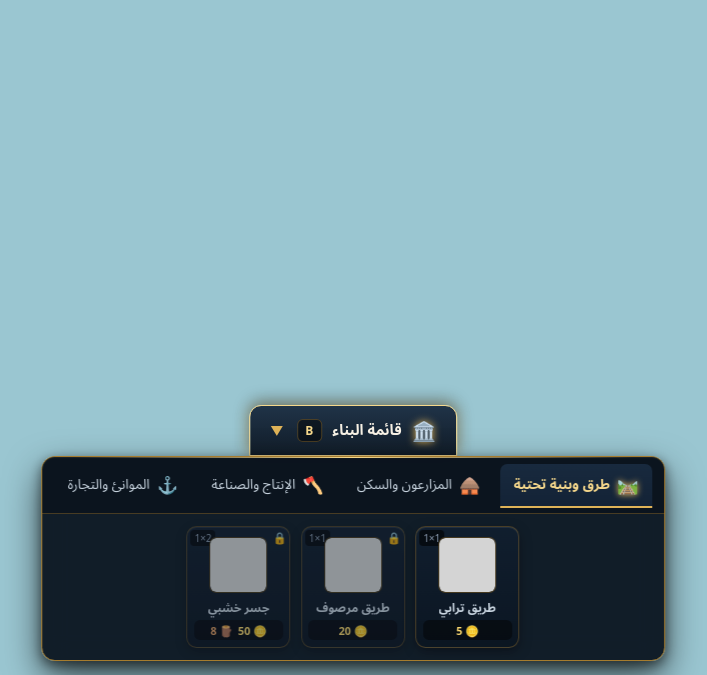
Test: BuildMenu Component (Anno-style) › displays detailed tooltip on card hover
Hover over the button "1×1 طريق ترابي 🪙 5" at (467, 587), box 415,526 -> 519,648
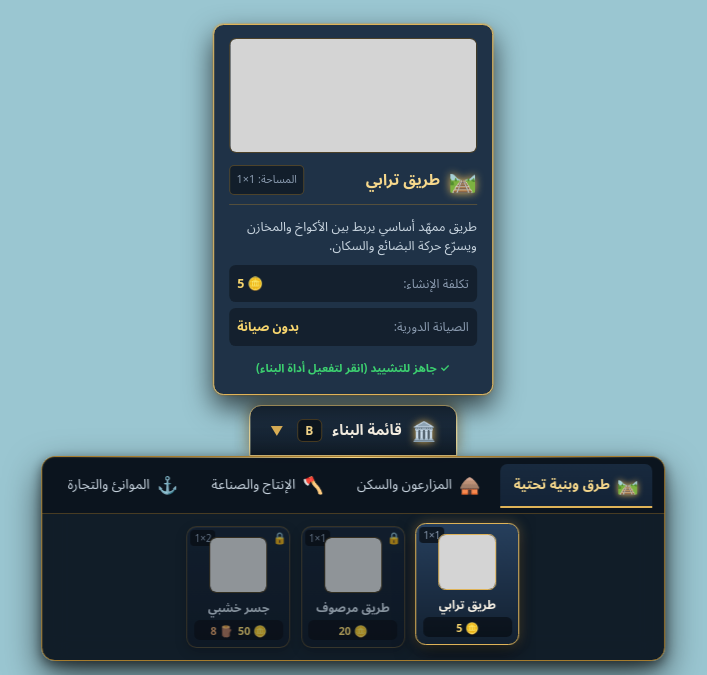
Expected: the tooltip is shown, 213,24 -> 493,395
Expected: the tooltip shows "طريق ممهّد أساسي", 247,217 -> 477,254
Move the pointer off the button "1×1 طريق ترابي 🪙 5", box 415,523 -> 519,645
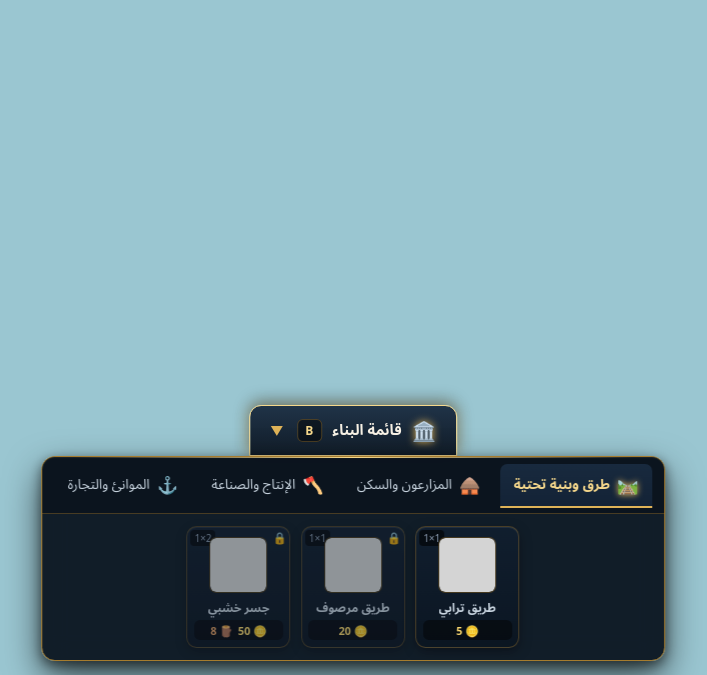
Expected: the tooltip "🛤️ طريق ترابي المساحة: 1×1 طريق ممهّد أساسي يربط بين الأكواخ والمخازن ويسرّع حر" is gone
